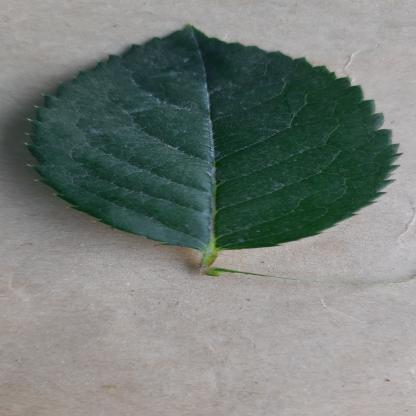normal: (24, 24, 402, 252)
